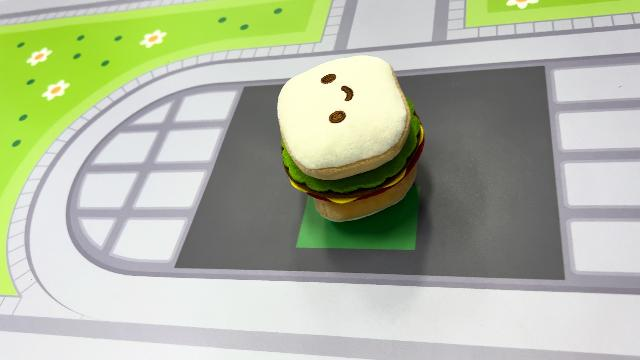sandwich: (274, 53, 426, 224)
